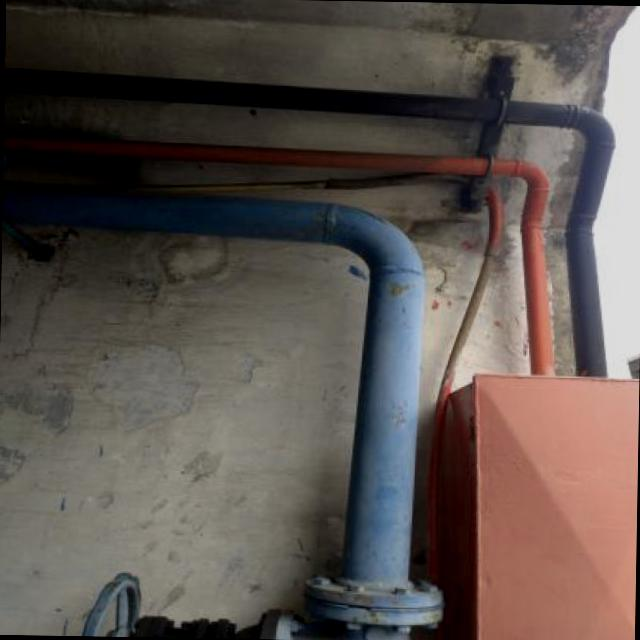gas: (4, 69, 618, 369), (2, 185, 424, 566), (3, 135, 553, 360)
